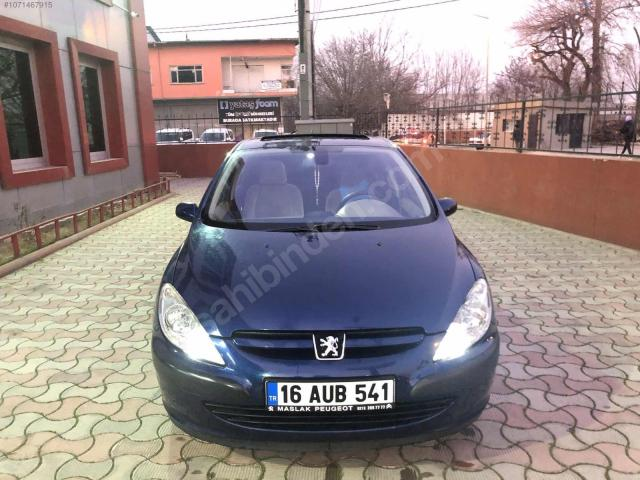plaka: (266, 379, 394, 410)
